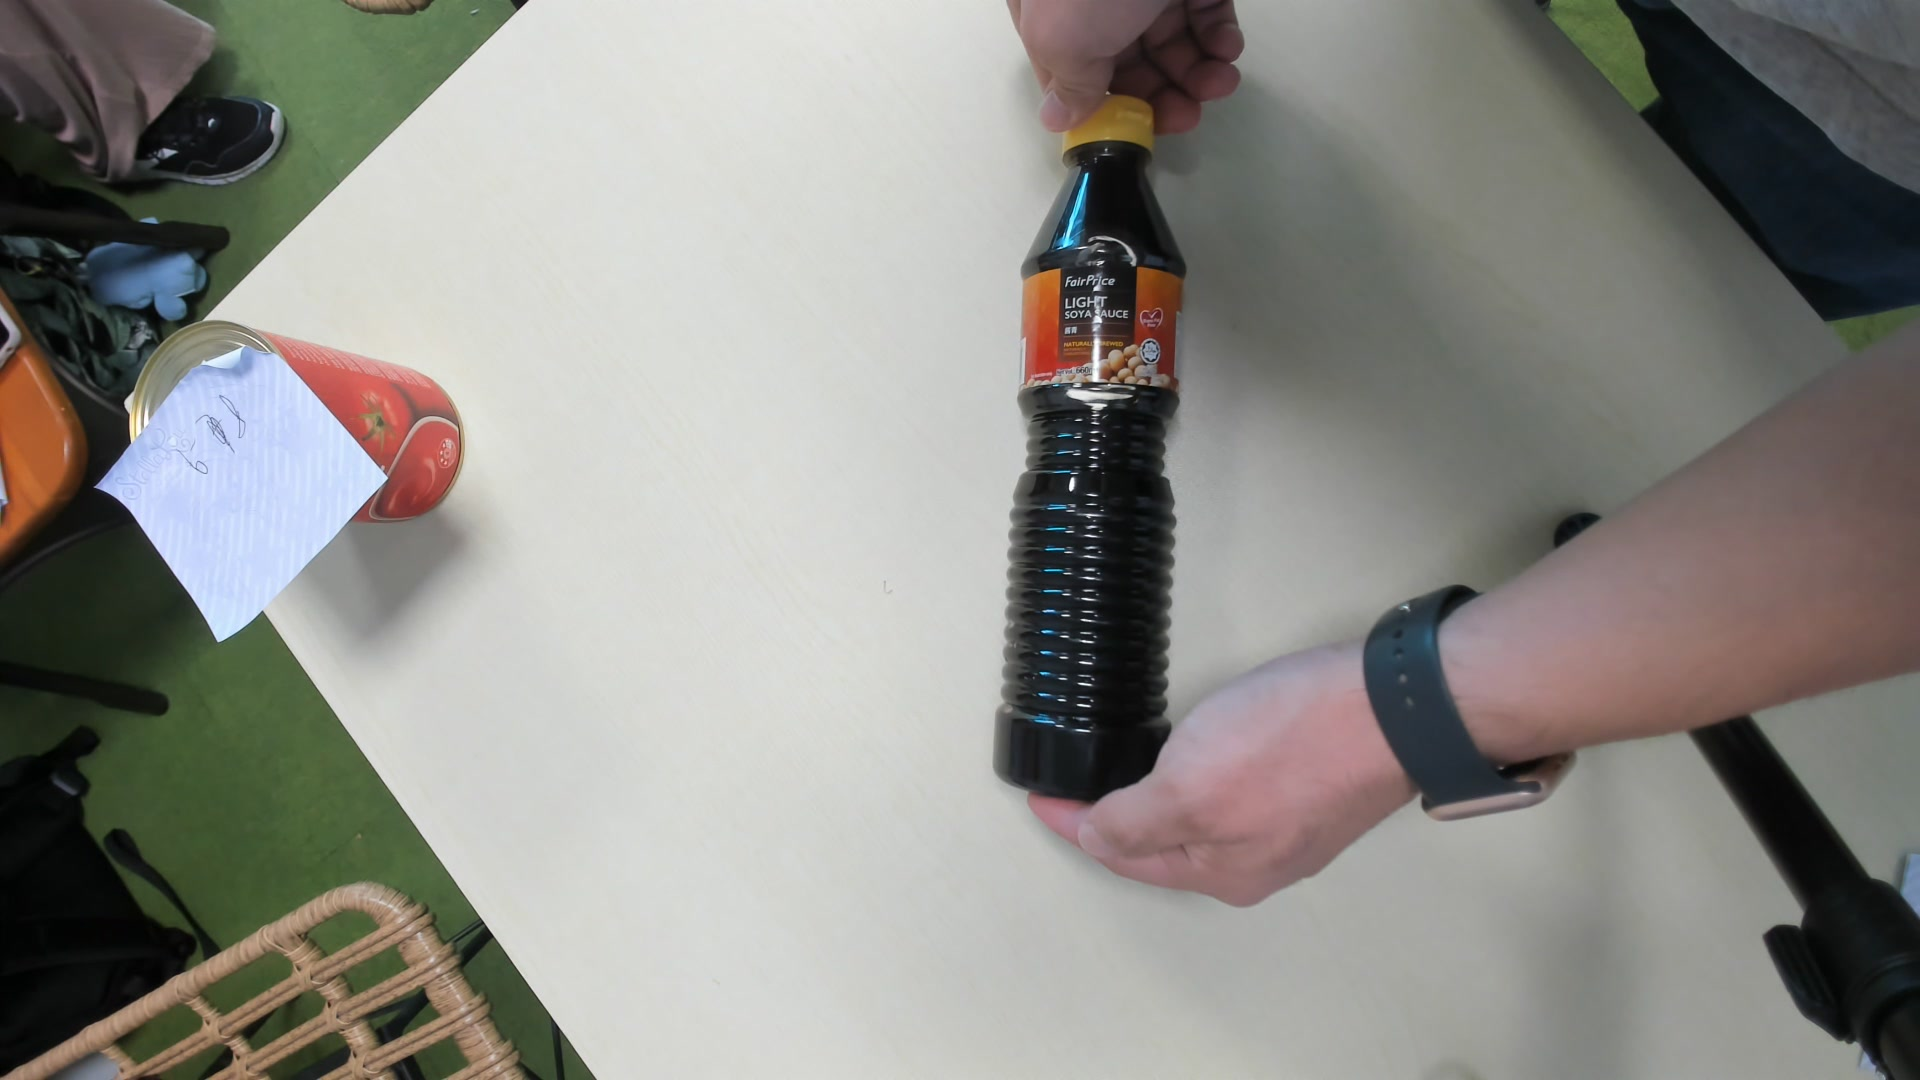OtherSauceDressingSoupbasePaste_600-699g_Halal_NonHealthy: (993, 94, 1178, 806)
